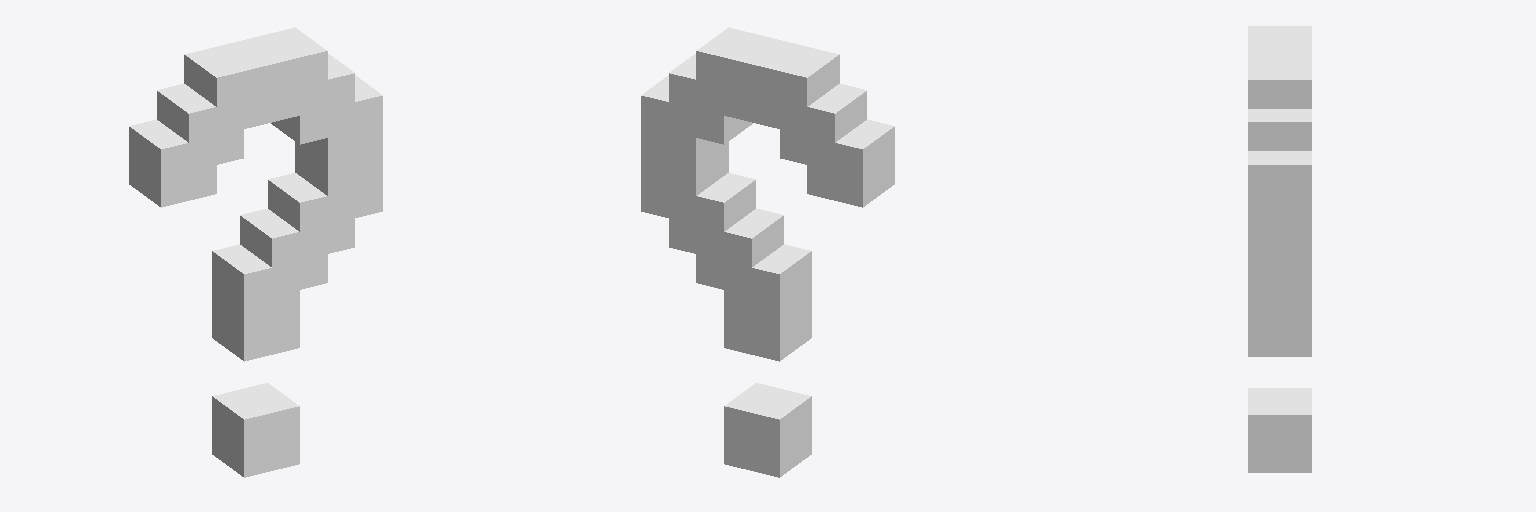
Rendered from qu_mark.obj.
3 views of the same model, side by side, from view 1: azimuth 30°, elevation 25°; view 2: azimuth 150°, elevation 25°; view 3: azimuth 270°, elevation 25° (orthographic).
Visible parts, largest first — view 1: object 1; view 2: object 1; view 3: object 1.
Part boxes in pixels (x1,y1,x2,y2): object 1: (129,27,382,477); object 1: (641,27,894,477); object 1: (1248,26,1311,472).
Bounding box in the file's own units: 0.8 × 1.4 × 0.2.